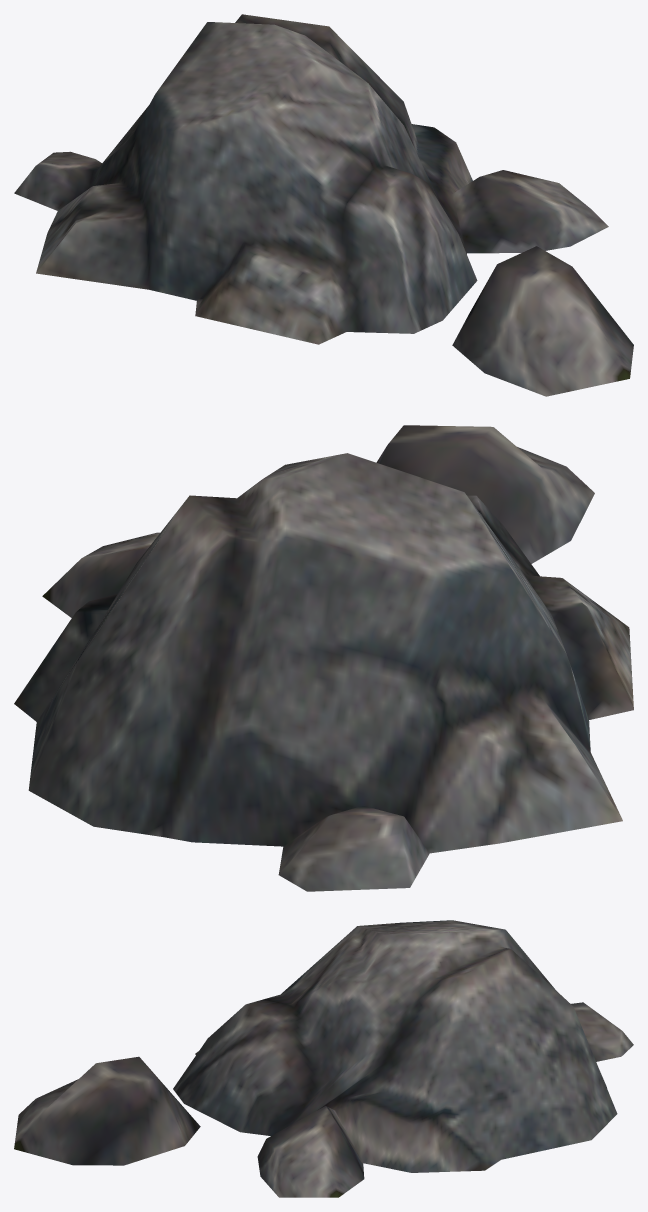
The model's file is Utility_Stone_Maincity12_05.FBX.
3 views of the same model, one above another, from view 1: azimuth 30°, elevation 25°; view 2: azimuth 150°, elevation 25°; view 3: azimuth 270°, elevation 25° (orthographic). The views are drawn at different scales.
Visible parts, largest first — view 1: Utility_Stone_Maincity12_05; view 2: Utility_Stone_Maincity12_05; view 3: Utility_Stone_Maincity12_05.
Boxes of the visible parts, left/top/right/bottom form: Utility_Stone_Maincity12_05: left=14, top=14, right=633, bottom=396; Utility_Stone_Maincity12_05: left=14, top=425, right=633, bottom=891; Utility_Stone_Maincity12_05: left=14, top=920, right=633, bottom=1197.
Bounding box in the file's own units: 1464 × 576 × 1889.
